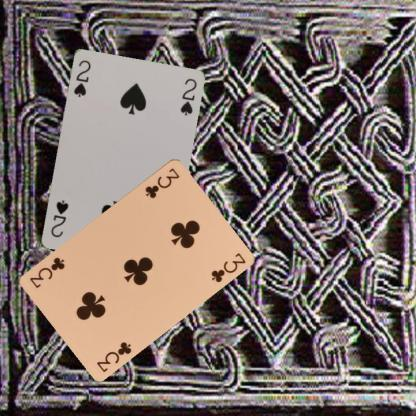2s: (70, 57, 92, 98)
3c: (142, 164, 181, 200), (93, 338, 132, 374)
